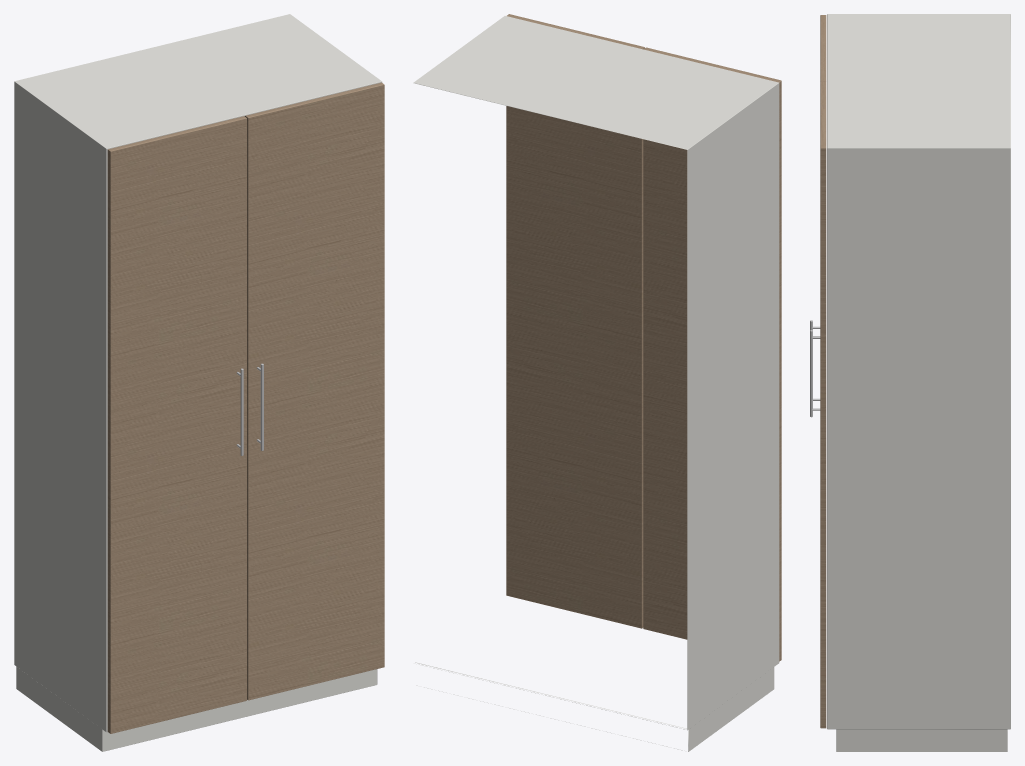
Rendered from wardrobe_oak.glb.
The picture shows the model from 3 angles, left to right: view 1: azimuth 30°, elevation 25°; view 2: azimuth 150°, elevation 25°; view 3: azimuth 270°, elevation 25°; orthographic projection.
Visible parts, largest first — view 1: wardrobe_hard; view 2: wardrobe_hard; view 3: wardrobe_hard.
Part boxes in pixels (<box>): wardrobe_hard: <box>14,14,384,751</box>; wardrobe_hard: <box>413,14,781,751</box>; wardrobe_hard: <box>810,14,1010,751</box>.
Bounding box in the file's own units: 0.9999 × 2.1 × 0.6327.
Materials: 4 (1 with a texture image).
